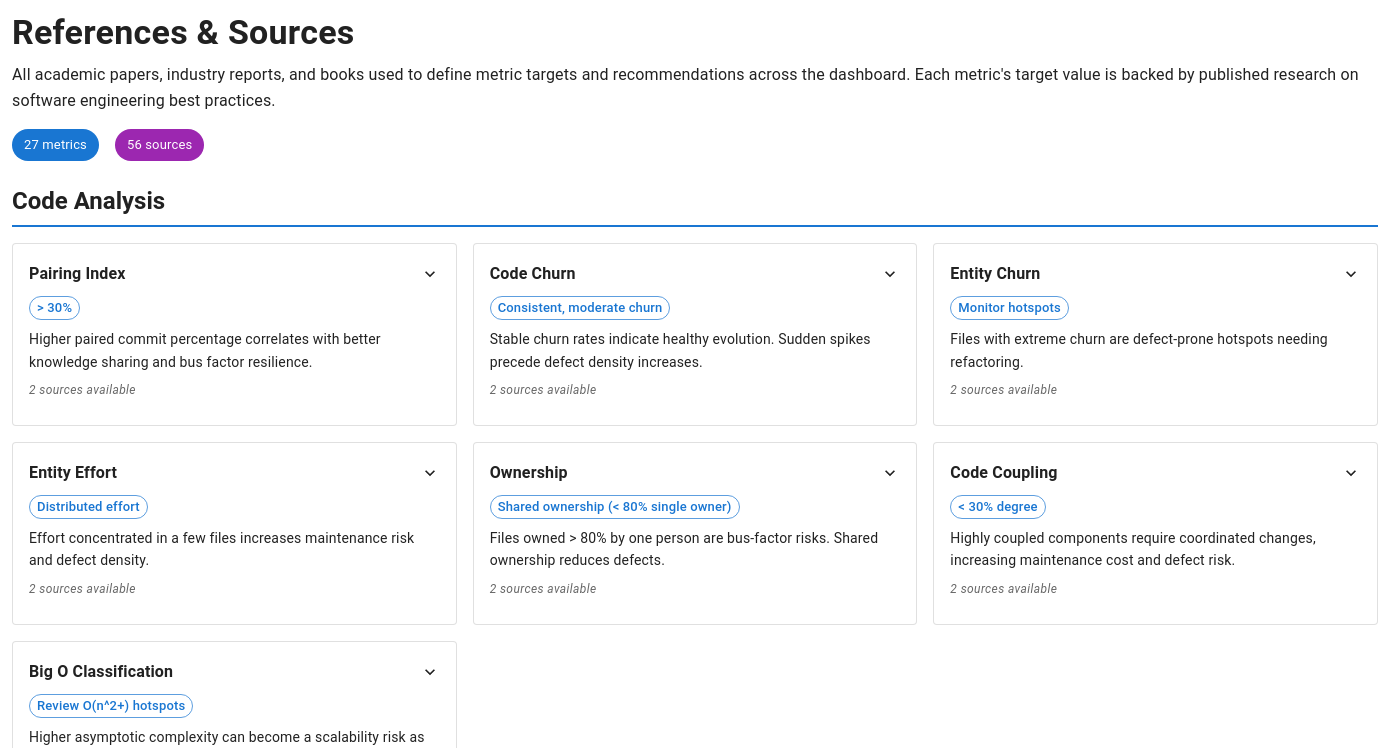
Test: ReferencesPage › expands sources when expand button is clicked
This screenshot has width=1378, height=748.
Find the first expand button (for Pairing Index)
Click the button with aria-label "expand sources" at x=77, y=274, box x1=29 y1=260 x2=440 y2=288
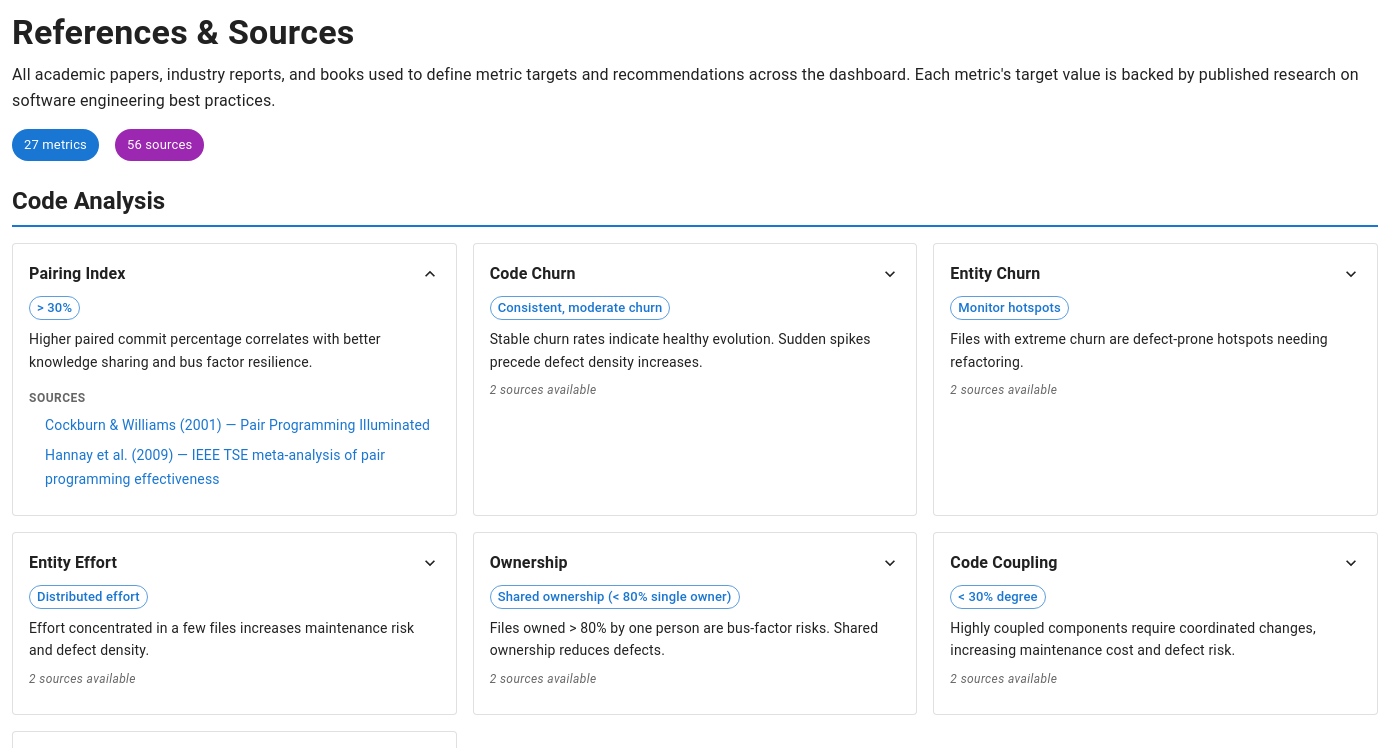
Check: the link "Cockburn & Williams (2001) — Pair Programming Illuminated" is shown, box x1=45 y1=417 x2=430 y2=433
Check: the link "Hannay et al. (2009)" is shown, box x1=45 y1=447 x2=385 y2=487
